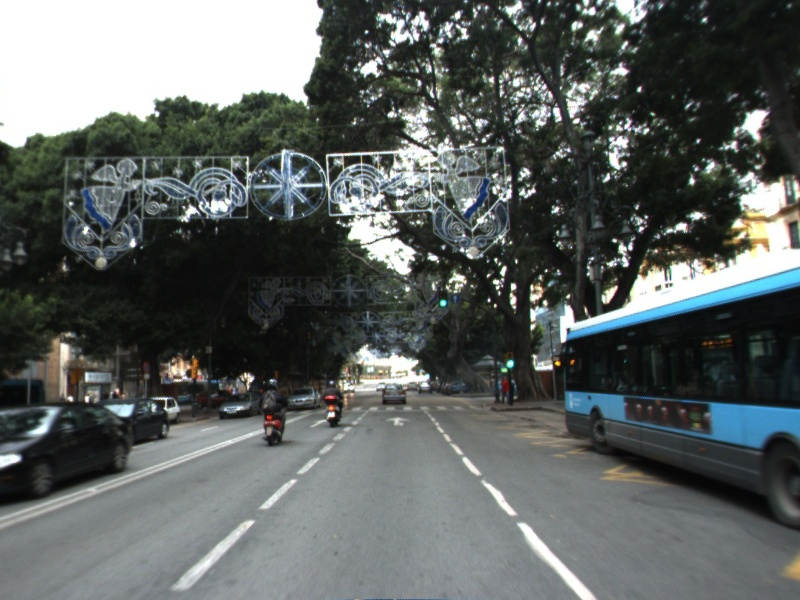STRAIGHT: (383, 415, 413, 428), (307, 417, 329, 429)
